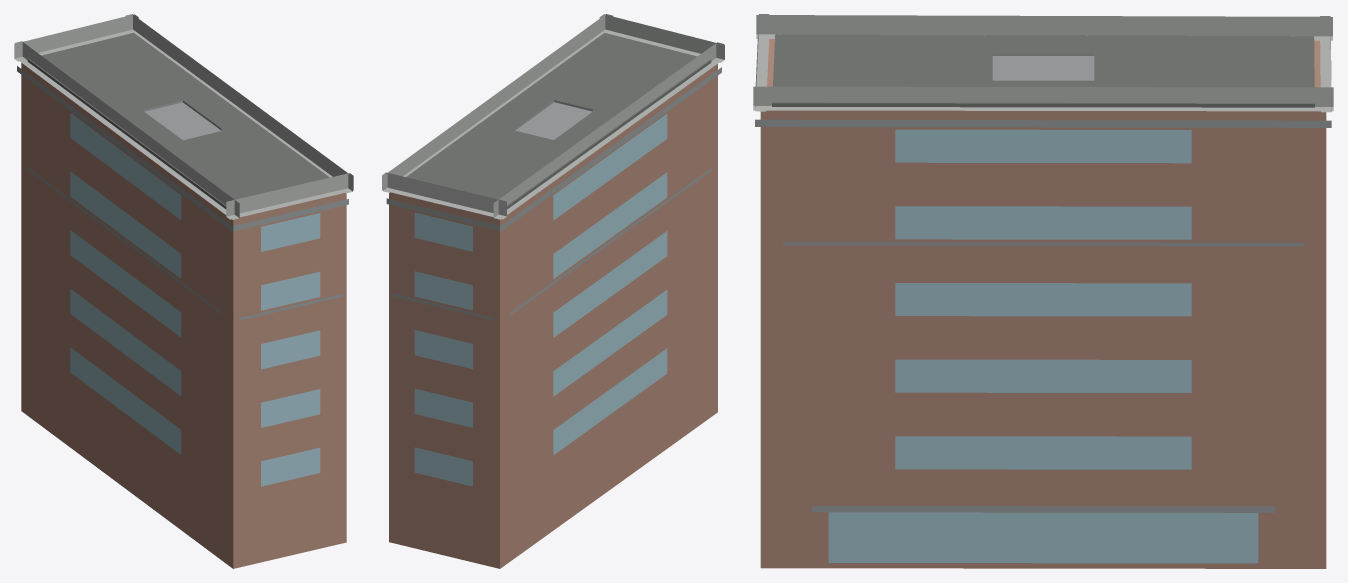
The picture shows the model from 3 angles, left to right: view 1: azimuth 30°, elevation 25°; view 2: azimuth 150°, elevation 25°; view 3: azimuth 270°, elevation 25°; orthographic projection. The views are drawn at different scales.
Parts seen in each view (by area): view 1: building-1753-mesh-0, building-1753-mesh-1, building-1753-mesh-3, building-1753-mesh-4, building-1753-mesh-2, building-1753-mesh-5; view 2: building-1753-mesh-0, building-1753-mesh-1, building-1753-mesh-3, building-1753-mesh-4, building-1753-mesh-2, building-1753-mesh-5; view 3: building-1753-mesh-0, building-1753-mesh-1, building-1753-mesh-3, building-1753-mesh-4, building-1753-mesh-2, building-1753-mesh-5.
Boxes of the visible parts, x1,y1,x2,y2 form: building-1753-mesh-0: (21,63,346,568); building-1753-mesh-1: (70,113,320,486); building-1753-mesh-3: (27,33,329,209); building-1753-mesh-4: (14,14,353,219); building-1753-mesh-2: (17,66,348,320); building-1753-mesh-5: (144,100,221,140); building-1753-mesh-0: (389,64,717,568); building-1753-mesh-1: (414,114,667,486); building-1753-mesh-3: (406,33,711,209); building-1753-mesh-4: (382,14,724,219); building-1753-mesh-2: (386,67,721,320); building-1753-mesh-5: (515,100,592,139); building-1753-mesh-0: (760,39,1326,568); building-1753-mesh-1: (828,129,1258,563); building-1753-mesh-3: (772,34,1314,107); building-1753-mesh-4: (753,14,1333,112); building-1753-mesh-2: (755,119,1331,512); building-1753-mesh-5: (992,53,1094,80).
Size of the model in its own units: 7.39 by 20.95 by 22.99.
